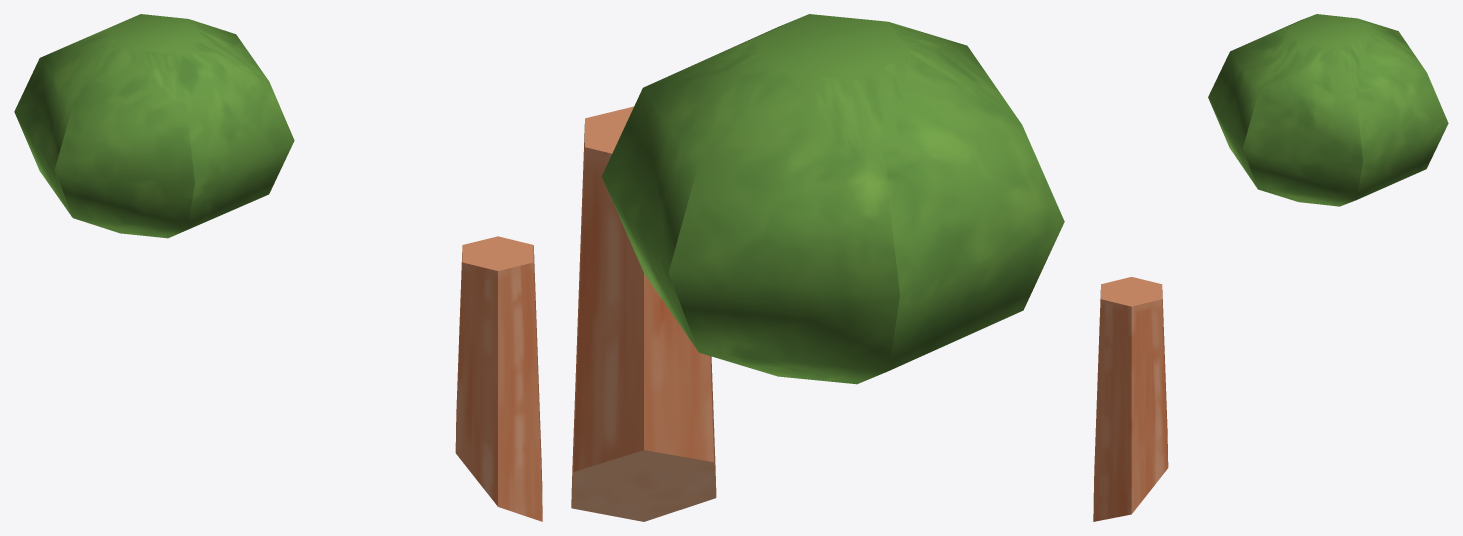
Rendered from tree_s04.fbx.
3 renders of one model, left to right at view 1: azimuth 30°, elevation 25°; view 2: azimuth 150°, elevation 25°; view 3: azimuth 270°, elevation 25°, orthographic. The views are drawn at different scales.
Parts seen in each view (by area): view 1: tree_s04; view 2: tree_s04; view 3: tree_s04.
Part boxes in pixels (x1=…): tree_s04: x1=14, y1=14, x2=542, y2=521; tree_s04: x1=571, y1=14, x2=1064, y2=521; tree_s04: x1=1093, y1=14, x2=1448, y2=521.
Bounding box in the file's own units: 3.08 × 3.37 × 2.81.
